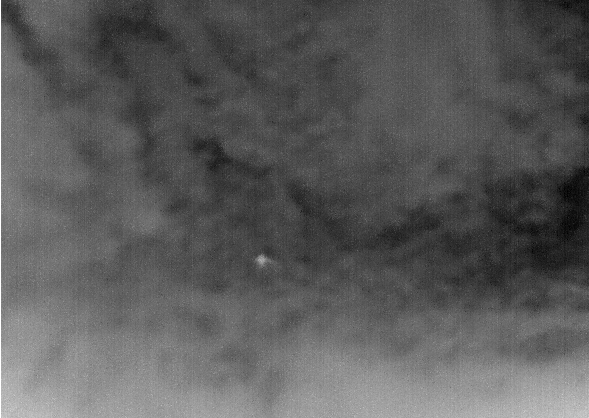dim target: (255, 254, 267, 266)
